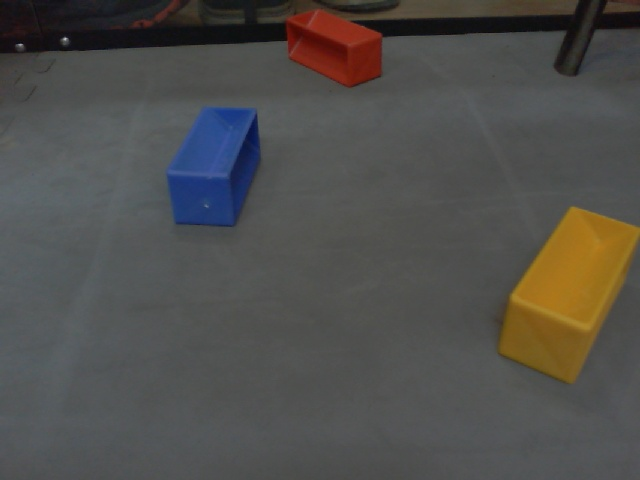BlueSample: (166, 104, 262, 229)
RedSample: (284, 10, 389, 91)
YellowSample: (495, 204, 640, 388)
